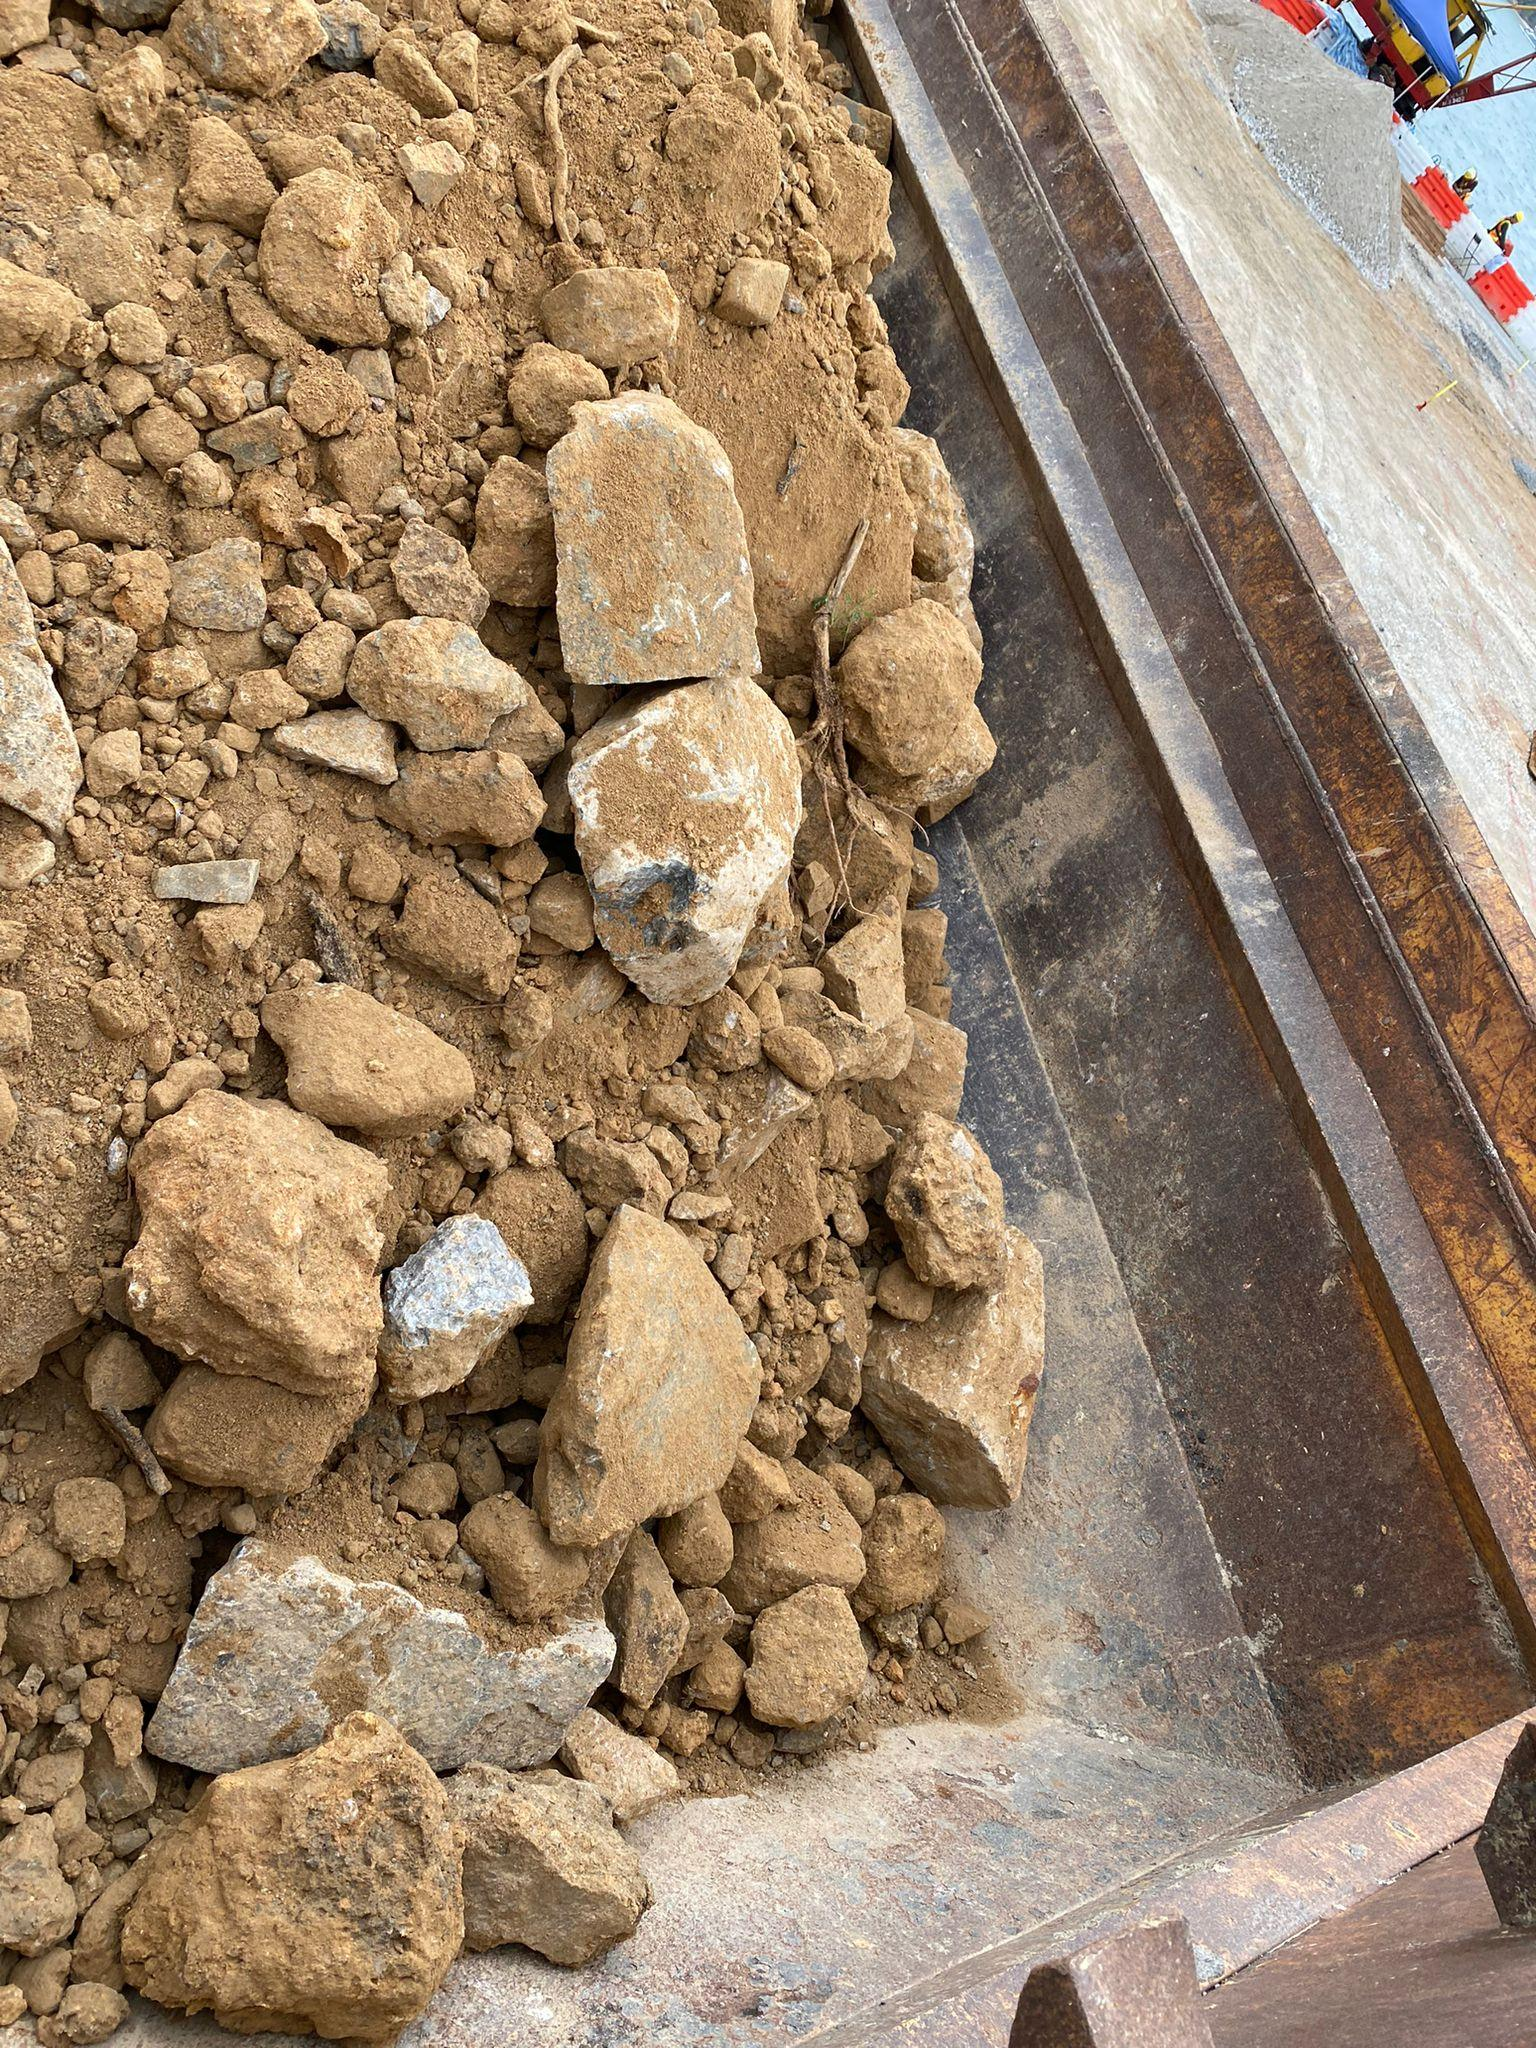dry: (0, 10, 1047, 2043)
